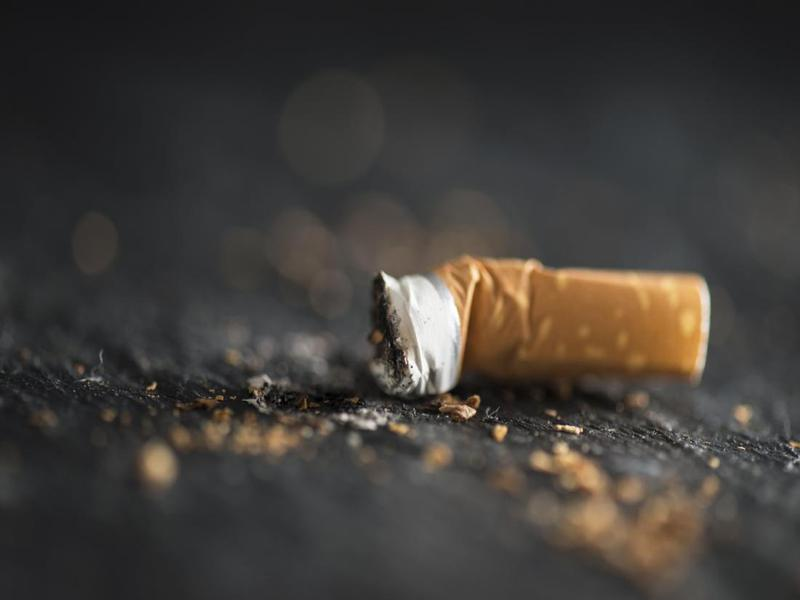burned_cigarette: (358, 253, 715, 394)
